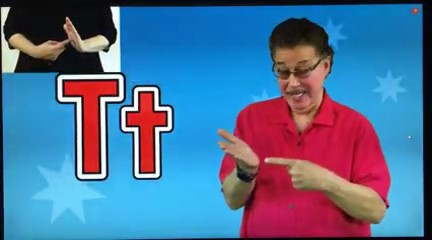T: (208, 115, 339, 198)
